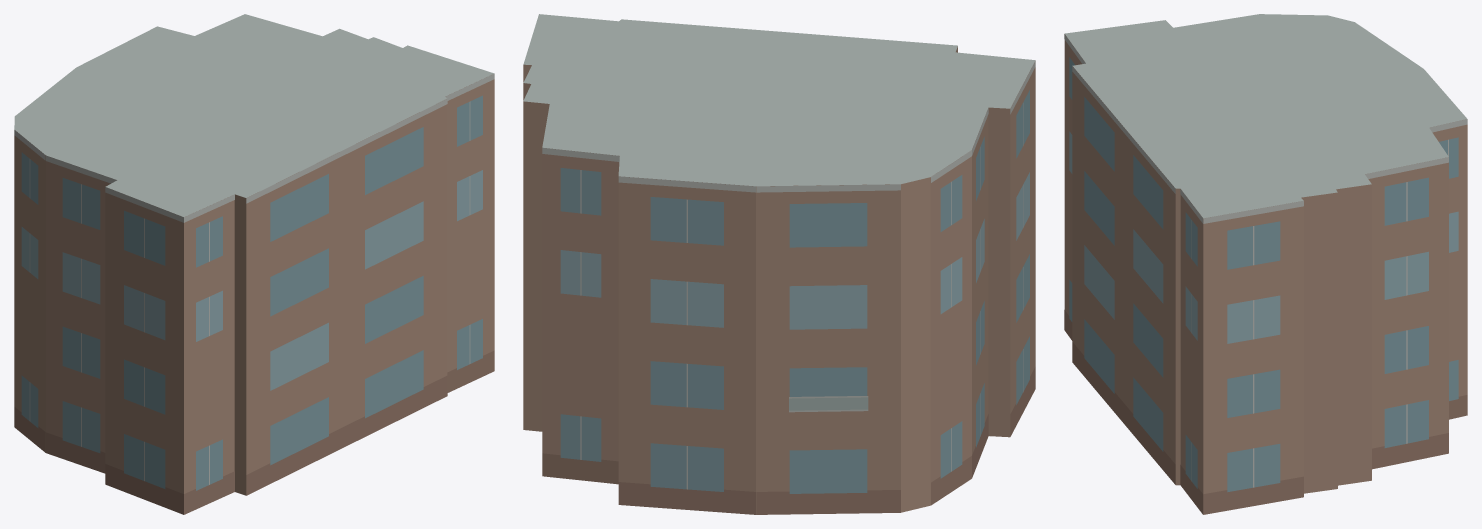
Rendered from survey-upis-32898953.glb.
3 renders of one model, left to right at view 1: azimuth 30°, elevation 25°; view 2: azimuth 150°, elevation 25°; view 3: azimuth 270°, elevation 25°, orthographic. The views are drawn at different scales.
Parts seen in each view (by area): view 1: survey-upis-32898953.tmp; view 2: survey-upis-32898953.tmp; view 3: survey-upis-32898953.tmp.
Part boxes in pixels (<box>): survey-upis-32898953.tmp: <box>14,14,494,514</box>; survey-upis-32898953.tmp: <box>523,14,1035,514</box>; survey-upis-32898953.tmp: <box>1064,14,1467,514</box>.
Size of the model in its own units: 19.08 by 12.9 by 15.9.
